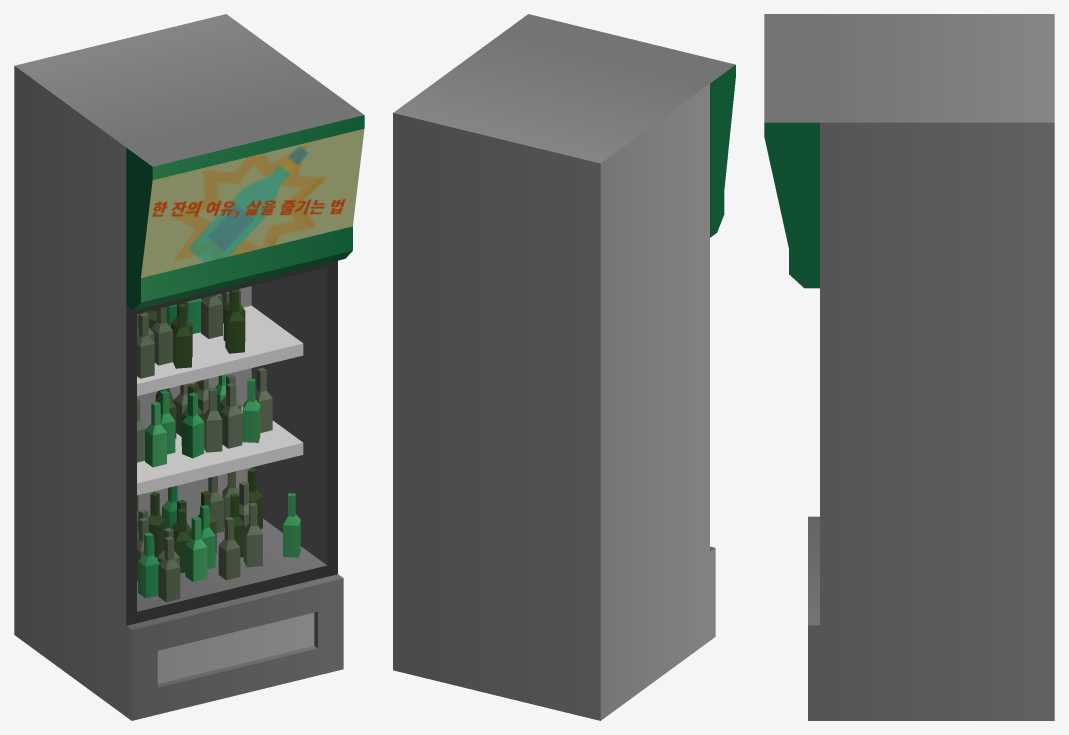
File: B03_Frigo_SOJU.fbx
The picture shows the model from 3 angles, left to right: view 1: azimuth 30°, elevation 25°; view 2: azimuth 150°, elevation 25°; view 3: azimuth 270°, elevation 25°; orthographic projection. The views are drawn at different scales.
Parts seen in each view (by area): view 1: B03_Frigo_SOJU; view 2: B03_Frigo_SOJU; view 3: B03_Frigo_SOJU.
Boxes of the visible parts, left/top/right/bottom form: B03_Frigo_SOJU: left=14, top=14, right=364, bottom=720; B03_Frigo_SOJU: left=393, top=14, right=735, bottom=720; B03_Frigo_SOJU: left=764, top=14, right=1054, bottom=720.
Bounding box in the file's own units: 161 × 413 × 181.
